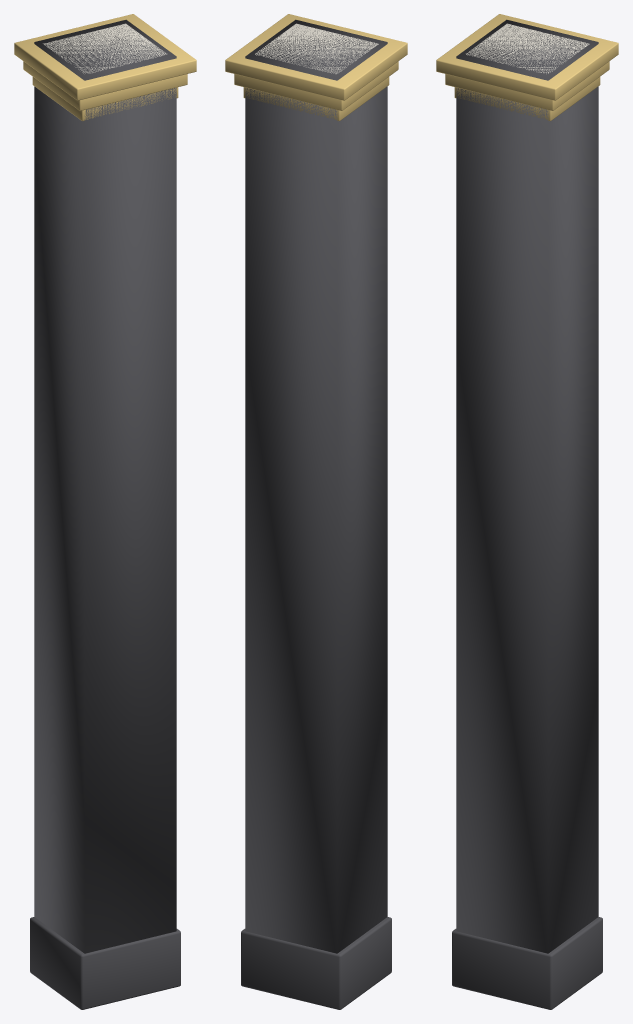
The model's file is pilastro.glb.
The picture shows the model from 3 angles, left to right: view 1: azimuth 30°, elevation 25°; view 2: azimuth 150°, elevation 25°; view 3: azimuth 330°, elevation 25°; orthographic projection.
Parts seen in each view (by area): view 1: COL_pilastro, les_p_base, les_p_cap_2, les_p_fusto, les_p_cap_1, les_p_cap_0; view 2: COL_pilastro, les_p_base, les_p_cap_2, les_p_fusto, les_p_cap_1, les_p_cap_0; view 3: COL_pilastro, les_p_base, les_p_cap_2, les_p_fusto, les_p_cap_1, les_p_cap_0.
Part boxes in pixels (x1=…): COL_pilastro: x1=34, y1=19, x2=176, y2=953; les_p_base: x1=30, y1=917, x2=180, y2=1009; les_p_cap_2: x1=14, y1=14, x2=196, y2=100; les_p_fusto: x1=43, y1=23, x2=166, y2=73; les_p_cap_1: x1=23, y1=61, x2=187, y2=110; les_p_cap_0: x1=32, y1=77, x2=178, y2=121; COL_pilastro: x1=245, y1=19, x2=387, y2=953; les_p_base: x1=241, y1=917, x2=391, y2=1009; les_p_cap_2: x1=225, y1=14, x2=407, y2=100; les_p_fusto: x1=255, y1=23, x2=378, y2=73; les_p_cap_1: x1=234, y1=61, x2=398, y2=110; les_p_cap_0: x1=243, y1=77, x2=389, y2=121; COL_pilastro: x1=456, y1=19, x2=598, y2=953; les_p_base: x1=452, y1=917, x2=602, y2=1009; les_p_cap_2: x1=436, y1=14, x2=618, y2=100; les_p_fusto: x1=466, y1=23, x2=589, y2=73; les_p_cap_1: x1=445, y1=61, x2=609, y2=110; les_p_cap_0: x1=454, y1=77, x2=600, y2=121.
Size of the model in its own units: 1.24 by 9.2 by 1.14.
